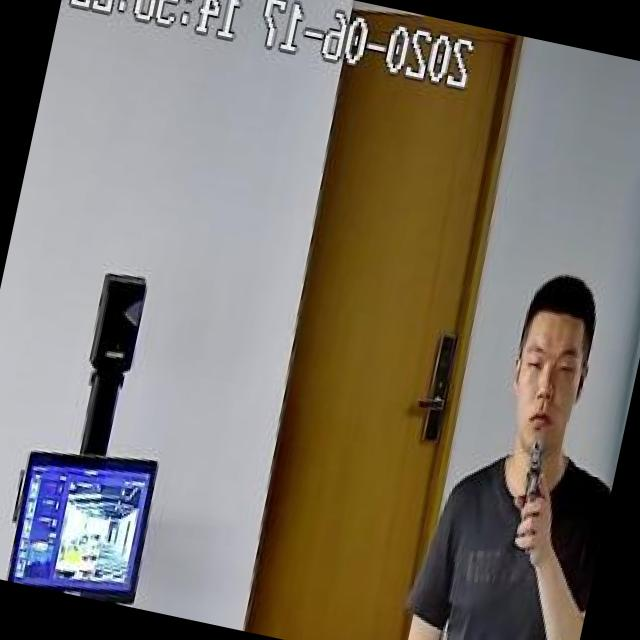Guns: (498, 424, 562, 542)
